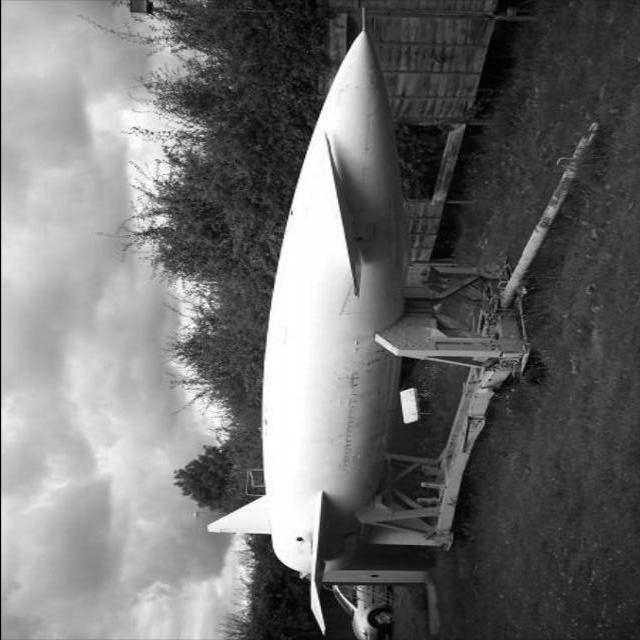missile: (262, 26, 408, 581)
